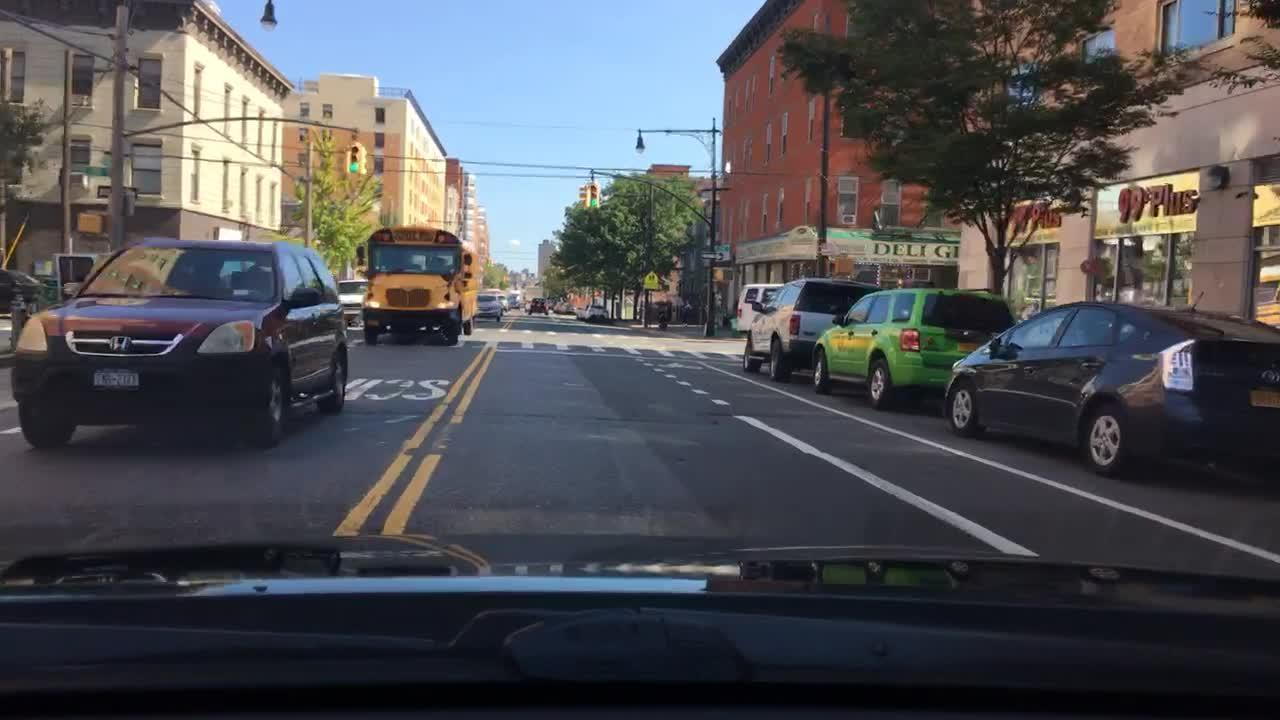Honda: (106, 330, 133, 358)
